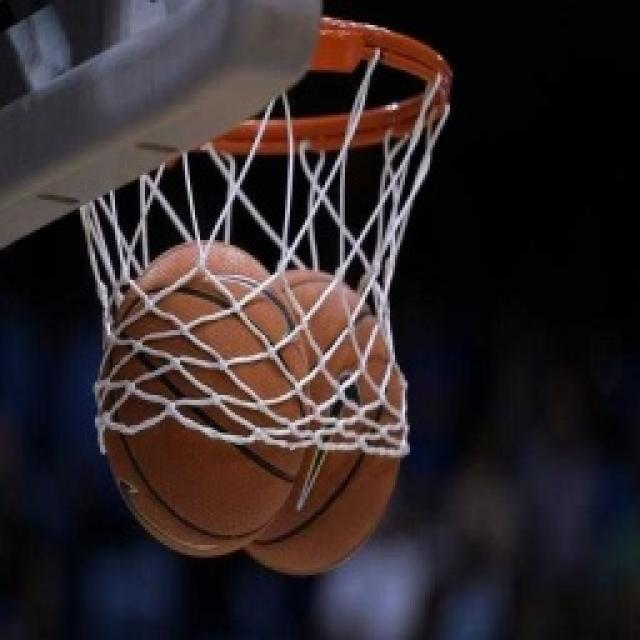rim: (82, 240, 310, 562), (247, 260, 413, 584)
